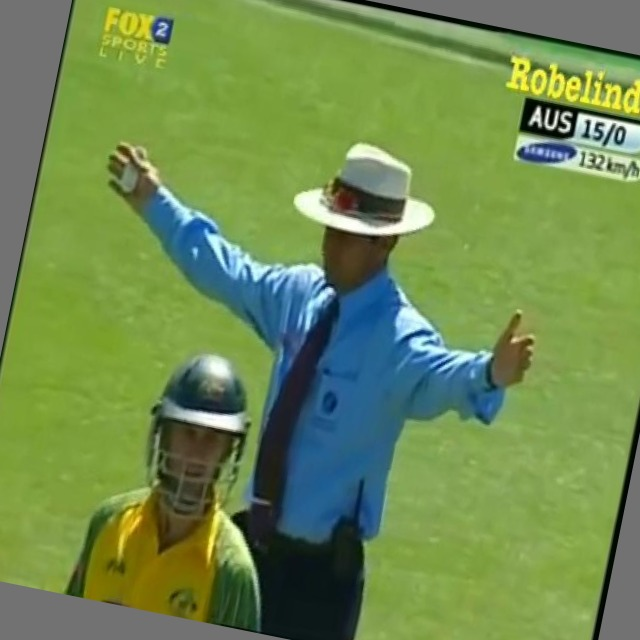Wide: (55, 84, 580, 484)
